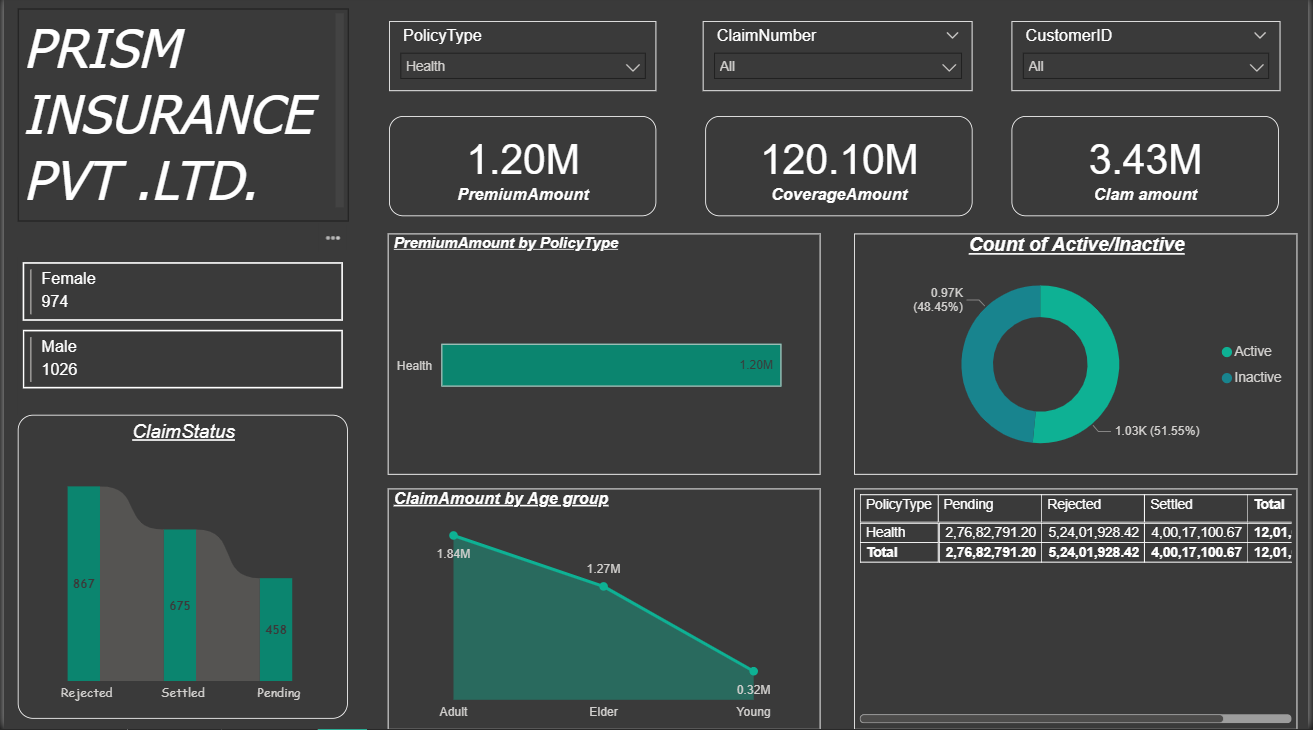

What the dashboard file says about the page in this screenshot:
{"tool":"powerbi","page":{"name":"Page 1","canvas":[1280,720],"ordinal":0},"visuals":[{"type":"slicer","fields":{"Values":["InsuranceData.PolicyType"]},"box":[377.9,24.5,262.6,68.7],"z":0},{"type":"slicer","fields":{"Values":["InsuranceData.ClaimNumber"]},"box":[685.9,24.5,265,68.7],"z":1000},{"type":"slicer","fields":{"Values":["InsuranceData.CustomerID"]},"box":[989,24.5,263.8,68.7],"z":2000},{"type":"textbox","box":[13.5,12.3,325.2,209.8],"z":3000},{"type":"card","title":"Claim amount","fields":{"Values":["Sum(InsuranceData.ClaimAmount)"]},"box":[989,117.8,262.6,98.2],"z":4000},{"type":"card","title":"Claim amount","fields":{"Values":["Sum(InsuranceData.PremiumAmount)"]},"box":[377.9,117.8,262.6,98.2],"z":5000},{"type":"card","title":"Claim amount","fields":{"Values":["Sum(InsuranceData.CoverageAmount)"]},"box":[688.3,117.8,262.6,98.2],"z":6000},{"type":"multiRowCard","fields":{"Values":["InsuranceData.Gender","CountNonNull(InsuranceData.Gender)"]},"box":[13.5,256.4,323.9,154.6],"z":7000},{"type":"ribbonChart","title":" ClaimStatus","fields":{"Category":["InsuranceData.ClaimStatus"],"Y":["CountNonNull(InsuranceData.ClaimStatus)"]},"box":[13.5,411,323.9,298.2],"z":8000},{"type":"barChart","title":"PremiumAmount by PolicyType","fields":{"Y":["Sum(InsuranceData.PremiumAmount)"],"Category":["InsuranceData.PolicyType"]},"box":[376.7,233.1,424.5,236.8],"z":9000},{"type":"lineChart","title":"ClaimAmount by Age group","fields":{"Category":["InsuranceData.Age group"],"Y":["Sum(InsuranceData.ClaimAmount)"]},"box":[376.7,483.4,424.5,236.8],"z":10000},{"type":"donutChart","title":"Count of Active/Inactive ","fields":{"Category":["InsuranceData.Active/Inactive"],"Y":["CountNonNull(InsuranceData.Active/Inactive)"]},"box":[834.4,233.1,435.6,236.8],"z":11000},{"type":"pivotTable","fields":{"Values":["Sum(InsuranceData.CoverageAmount)"],"Columns":["InsuranceData.ClaimStatus"],"Rows":["InsuranceData.PolicyType"]},"box":[834.4,483.4,435.6,236.8],"z":12000}]}

Visuals, with their boxes in screenshot pixels (x1, y1, x2, y2), scaled from the page's 1280x720 canvas onto the 1313x730 screenshot:
slicer - InsuranceData.PolicyType: (x1=388, y1=25, x2=657, y2=94)
slicer - InsuranceData.ClaimNumber: (x1=704, y1=25, x2=975, y2=94)
slicer - InsuranceData.CustomerID: (x1=1014, y1=25, x2=1285, y2=94)
textbox: (x1=14, y1=12, x2=347, y2=225)
"Claim amount" card: (x1=1014, y1=119, x2=1284, y2=219)
"Claim amount" card: (x1=388, y1=119, x2=657, y2=219)
"Claim amount" card: (x1=706, y1=119, x2=975, y2=219)
multiRowCard - InsuranceData.Gender x CountNonNull(InsuranceData.Gender): (x1=14, y1=260, x2=346, y2=417)
" ClaimStatus" ribbonChart: (x1=14, y1=417, x2=346, y2=719)
"PremiumAmount by PolicyType" barChart: (x1=386, y1=236, x2=822, y2=476)
"ClaimAmount by Age group" lineChart: (x1=386, y1=490, x2=822, y2=729)
"Count of Active/Inactive " donutChart: (x1=856, y1=236, x2=1303, y2=476)
pivotTable - Sum(InsuranceData.CoverageAmount) x InsuranceData.ClaimStatus: (x1=856, y1=490, x2=1303, y2=729)
